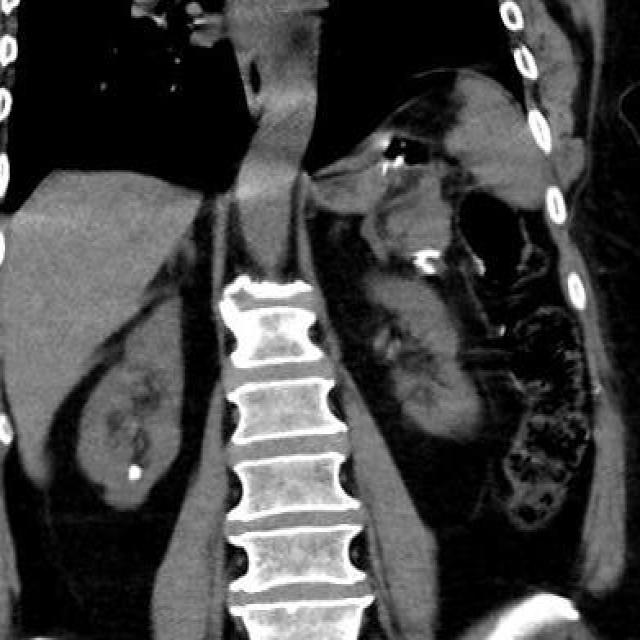Tas_Var: (128, 461, 142, 485)
